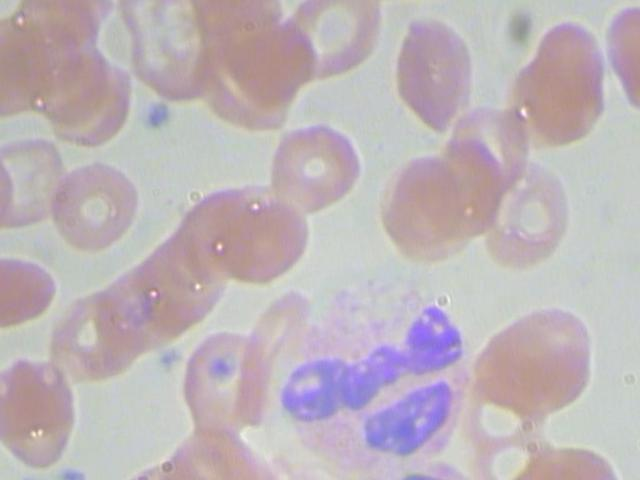Platelets: (111, 14, 252, 110), (159, 180, 268, 302), (269, 0, 406, 90)
RBC: (442, 302, 573, 451), (492, 5, 623, 153), (366, 2, 496, 150), (459, 135, 589, 283), (484, 277, 614, 425), (245, 103, 380, 233), (31, 140, 166, 270), (202, 177, 323, 303), (365, 146, 485, 273), (34, 277, 143, 399), (102, 241, 210, 363), (0, 118, 89, 245), (95, 0, 236, 41), (0, 0, 118, 46), (0, 0, 35, 16), (249, 0, 386, 4), (3, 470, 47, 480), (0, 310, 1, 432)
WBC: (132, 213, 241, 335)
